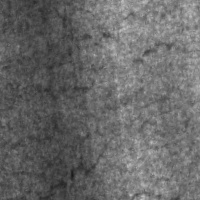crazing: (0, 112, 109, 199)
